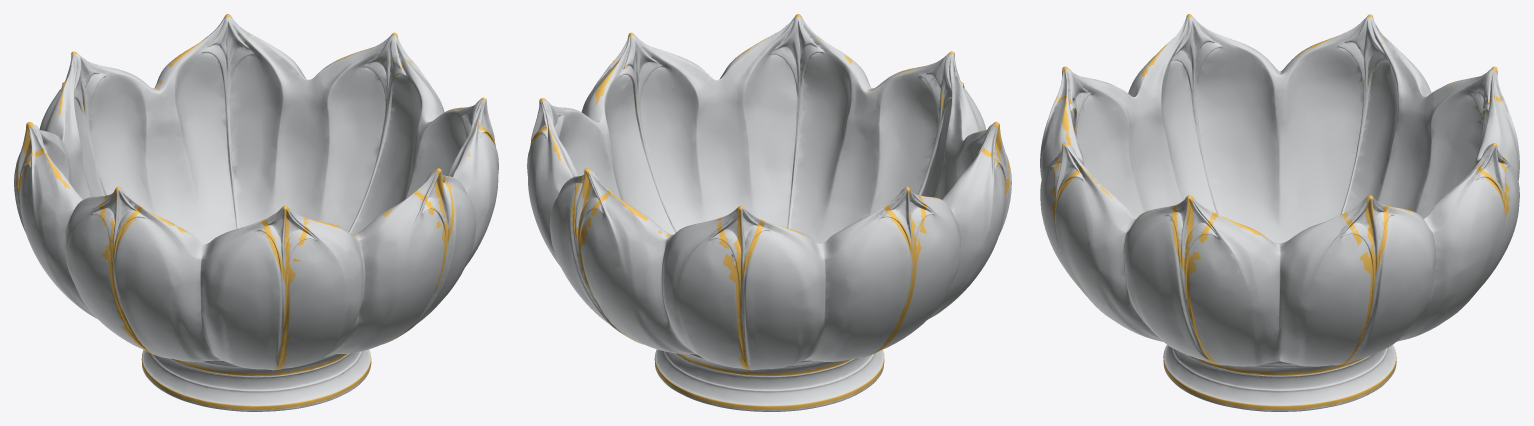
File: g22-aurora-lotus-bowl.glb
3 renders of one model, left to right at view 1: azimuth 30°, elevation 25°; view 2: azimuth 150°, elevation 25°; view 3: azimuth 270°, elevation 25°, orthographic.
Visible parts, largest first — view 1: Glassware_G22_Intact_Mesh, Glassware_G22_Shard_010, Glassware_G22_Shard_013, Glassware_G22_Shard_011, Glassware_G22_Shard_018, Glassware_G22_Shard_019, Glassware_G22_Shard_015, Glassware_G22_Shard_016, Glassware_G22_Shard_002, Glassware_G22_Shard_014, Glassware_G22_Shard_004, Glassware_G22_Shard_017 (+7 smaller); view 2: Glassware_G22_Intact_Mesh, Glassware_G22_Shard_011, Glassware_G22_Shard_014, Glassware_G22_Shard_017, Glassware_G22_Shard_019, Glassware_G22_Shard_009, Glassware_G22_Shard_012, Glassware_G22_Shard_015, Glassware_G22_Shard_016, Glassware_G22_Shard_018, Glassware_G22_Shard_000, Glassware_G22_Shard_013 (+5 smaller); view 3: Glassware_G22_Intact_Mesh, Glassware_G22_Shard_015, Glassware_G22_Shard_012, Glassware_G22_Shard_009, Glassware_G22_Shard_013, Glassware_G22_Shard_018, Glassware_G22_Shard_010, Glassware_G22_Shard_017, Glassware_G22_Shard_019, Glassware_G22_Shard_003, Glassware_G22_Shard_008, Glassware_G22_Shard_006 (+9 smaller).
Boxes of the visible parts, left/top/right/bottom form: Glassware_G22_Intact_Mesh: left=14, top=14, right=498, bottom=411; Glassware_G22_Shard_010: left=94, top=198, right=306, bottom=359; Glassware_G22_Shard_013: left=204, top=16, right=357, bottom=224; Glassware_G22_Shard_011: left=296, top=171, right=469, bottom=354; Glassware_G22_Shard_018: left=302, top=32, right=451, bottom=195; Glassware_G22_Shard_019: left=39, top=14, right=231, bottom=199; Glassware_G22_Shard_015: left=18, top=122, right=131, bottom=300; Glassware_G22_Shard_016: left=209, top=205, right=344, bottom=314; Glassware_G22_Shard_002: left=212, top=347, right=361, bottom=411; Glassware_G22_Shard_014: left=85, top=129, right=189, bottom=215; Glassware_G22_Shard_004: left=175, top=115, right=264, bottom=217; Glassware_G22_Shard_017: left=429, top=97, right=497, bottom=261; Glassware_G22_Intact_Mesh: left=527, top=16, right=1011, bottom=411; Glassware_G22_Shard_011: left=758, top=17, right=912, bottom=224; Glassware_G22_Shard_014: left=604, top=261, right=819, bottom=367; Glassware_G22_Shard_017: left=607, top=14, right=801, bottom=187; Glassware_G22_Shard_019: left=584, top=168, right=845, bottom=295; Glassware_G22_Shard_009: left=822, top=230, right=979, bottom=347; Glassware_G22_Shard_012: left=582, top=65, right=720, bottom=230; Glassware_G22_Shard_015: left=842, top=121, right=1005, bottom=269; Glassware_G22_Shard_016: left=883, top=51, right=978, bottom=192; Glassware_G22_Shard_018: left=527, top=87, right=614, bottom=191; Glassware_G22_Shard_000: left=653, top=342, right=791, bottom=411; Glassware_G22_Shard_013: left=529, top=173, right=598, bottom=309; Glassware_G22_Intact_Mesh: left=1040, top=14, right=1519, bottom=411; Glassware_G22_Shard_015: left=1182, top=14, right=1419, bottom=177; Glassware_G22_Shard_012: left=1128, top=223, right=1282, bottom=362; Glassware_G22_Shard_009: left=1254, top=71, right=1423, bottom=220; Glassware_G22_Shard_013: left=1368, top=145, right=1517, bottom=356; Glassware_G22_Shard_018: left=1250, top=195, right=1428, bottom=326; Glassware_G22_Shard_010: left=1093, top=28, right=1215, bottom=218; Glassware_G22_Shard_017: left=1062, top=142, right=1238, bottom=303; Glassware_G22_Shard_019: left=1406, top=66, right=1519, bottom=207; Glassware_G22_Shard_003: left=1186, top=357, right=1349, bottom=411; Glassware_G22_Shard_008: left=1239, top=288, right=1371, bottom=366; Glassware_G22_Shard_006: left=1145, top=136, right=1261, bottom=225.
Size of the model in its own units: 0.7572 by 0.45 by 0.7571.
